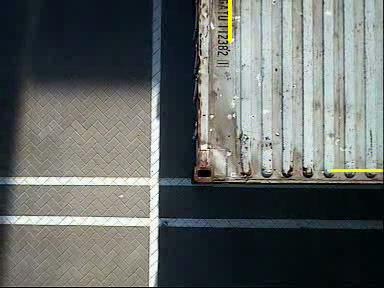groundmarker_2: (103, 109, 189, 172)
